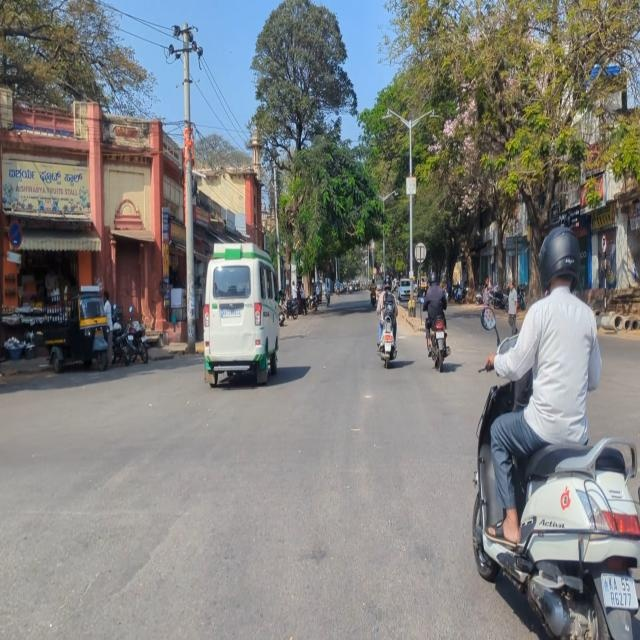bien_nguy_hiem: (8, 218, 23, 251), (599, 232, 608, 252)
